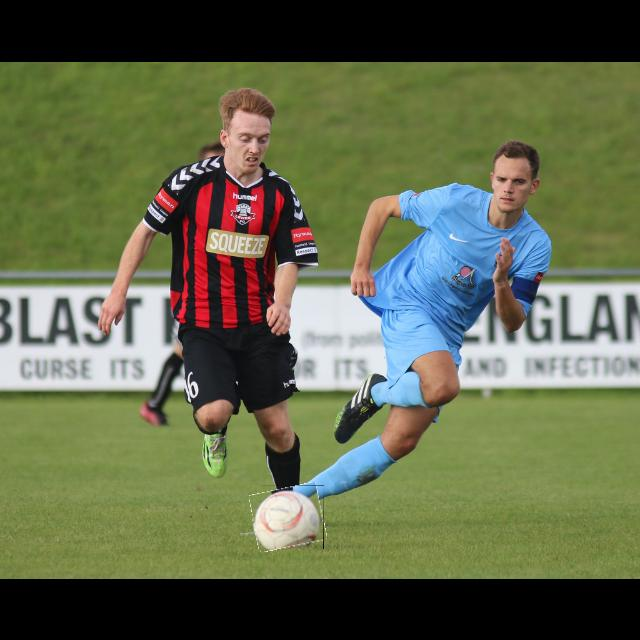Football: (252, 485, 324, 549)
